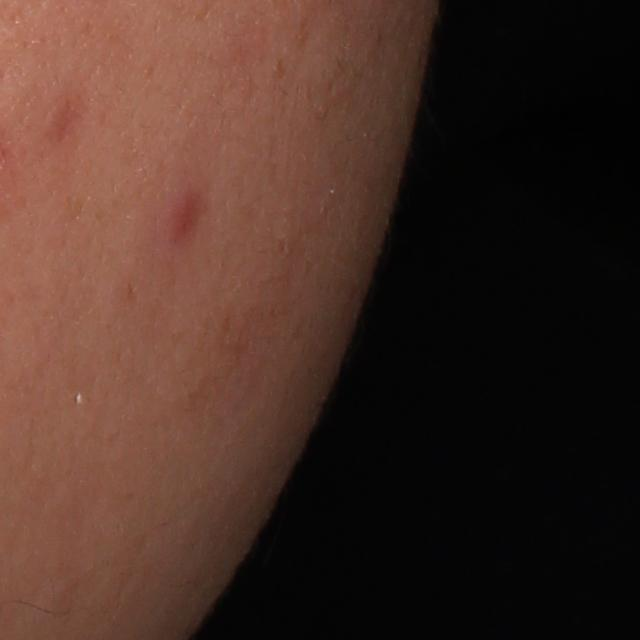papule: (159, 186, 206, 247)
